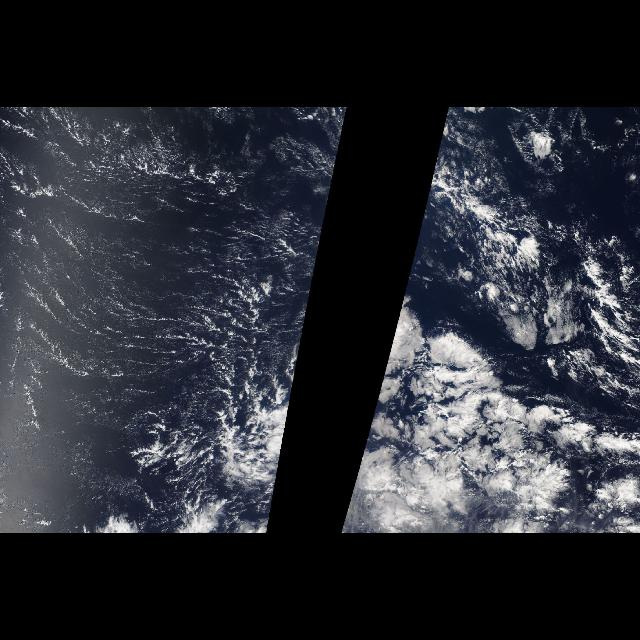Gravel: (21, 114, 288, 423)
Sugar: (5, 110, 287, 526)
